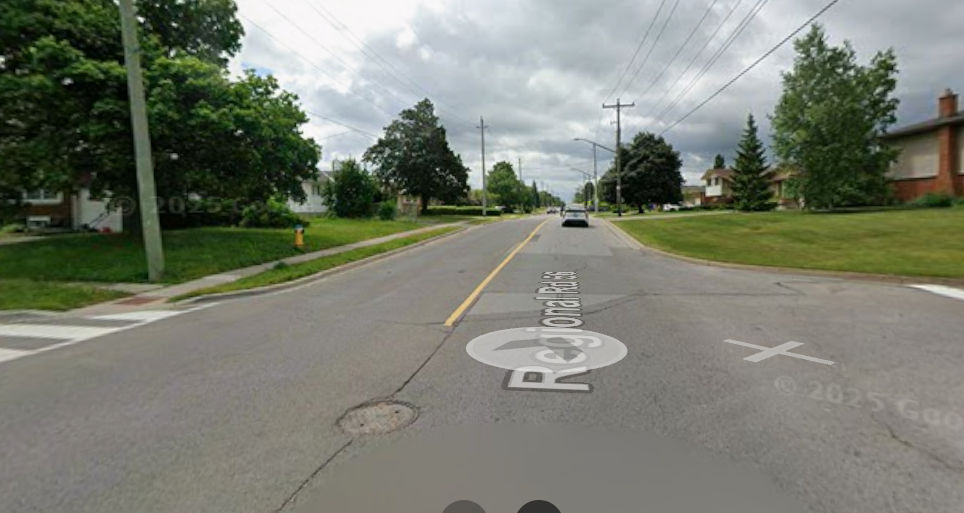cracks: (849, 413, 964, 483), (373, 320, 474, 396), (248, 455, 359, 512), (583, 285, 824, 306)
pothole: (310, 396, 446, 451)
